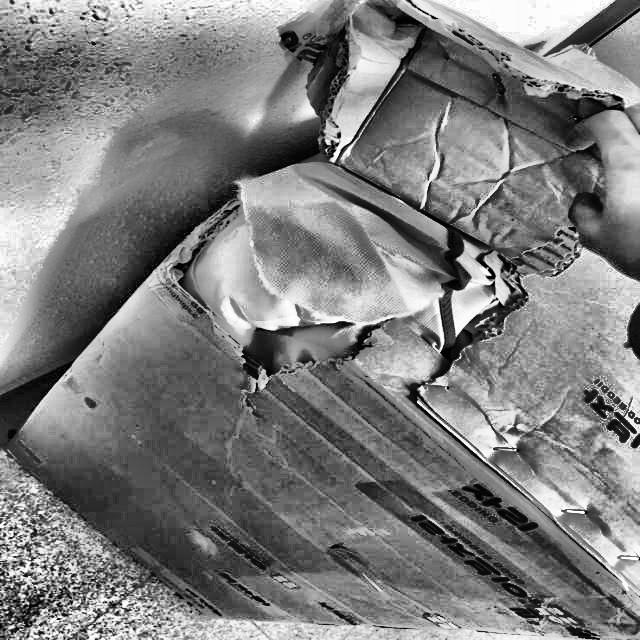box: (0, 0, 639, 628)
hole: (194, 158, 531, 413)
